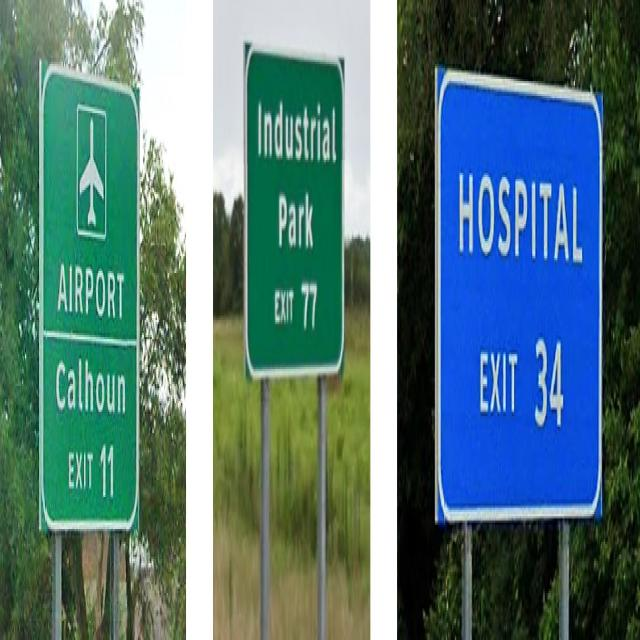street-signs: (40, 56, 141, 536), (244, 35, 347, 379)
